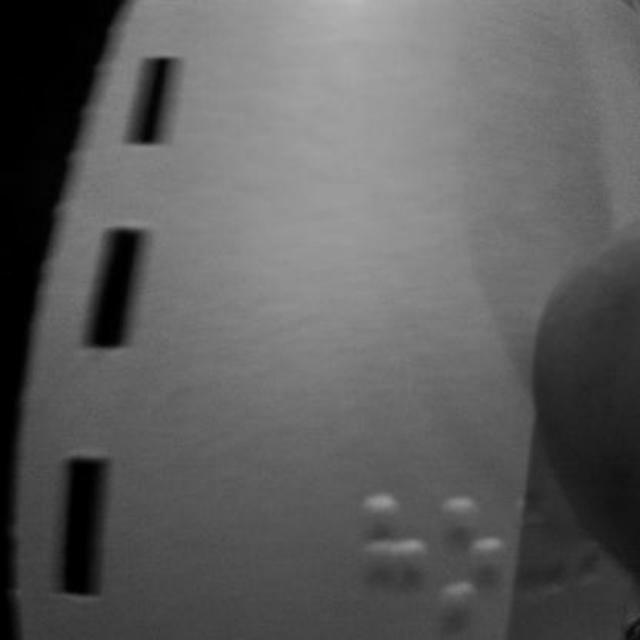braiile: (358, 488, 427, 624), (435, 488, 501, 628)
